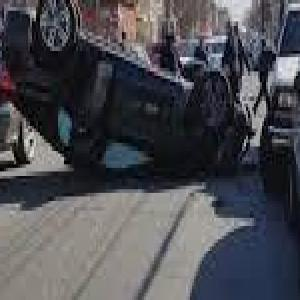serious: (0, 0, 250, 186)
